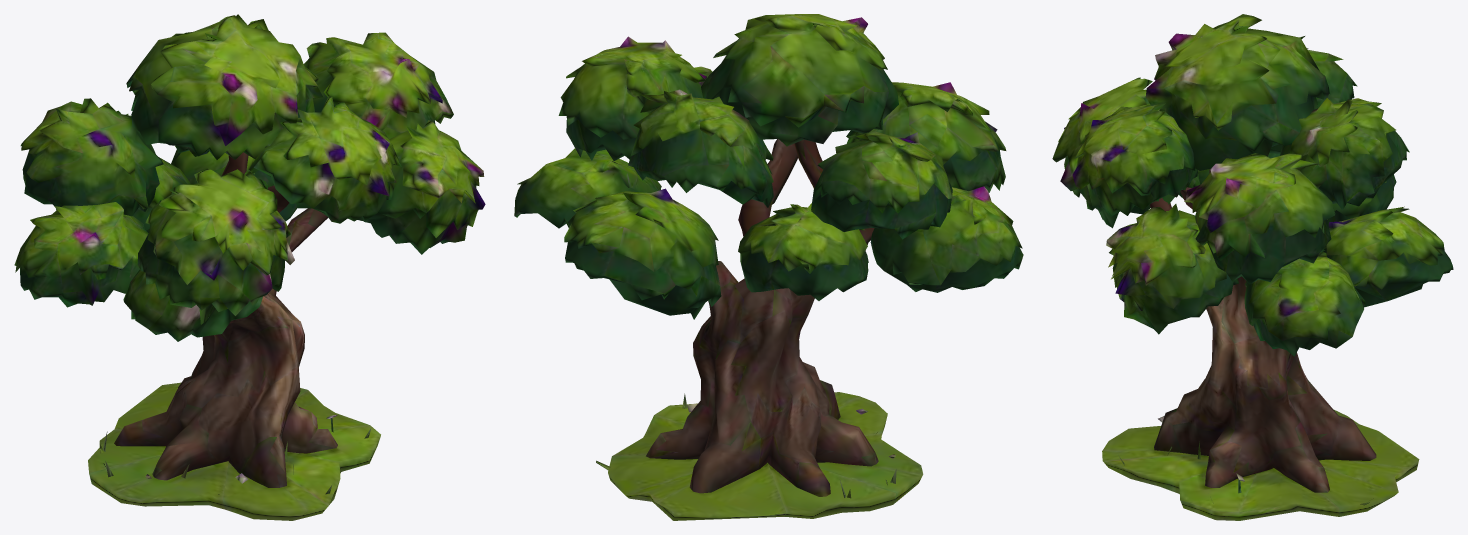
Rendered from tut.glb.
3 views of the same model, side by side, from view 1: azimuth 30°, elevation 25°; view 2: azimuth 150°, elevation 25°; view 3: azimuth 270°, elevation 25° (orthographic). The views are drawn at different scales.
Parts seen in each view (by area): view 1: geometry_0; view 2: geometry_0; view 3: geometry_0.
Boxes of the visible parts, <box> form: geometry_0: <box>14,14,485,520</box>; geometry_0: <box>514,14,1023,520</box>; geometry_0: <box>1052,14,1453,520</box>.
Size of the model in its own units: 0.9556 by 0.9073 by 0.773.
1 material, 1 textured.
